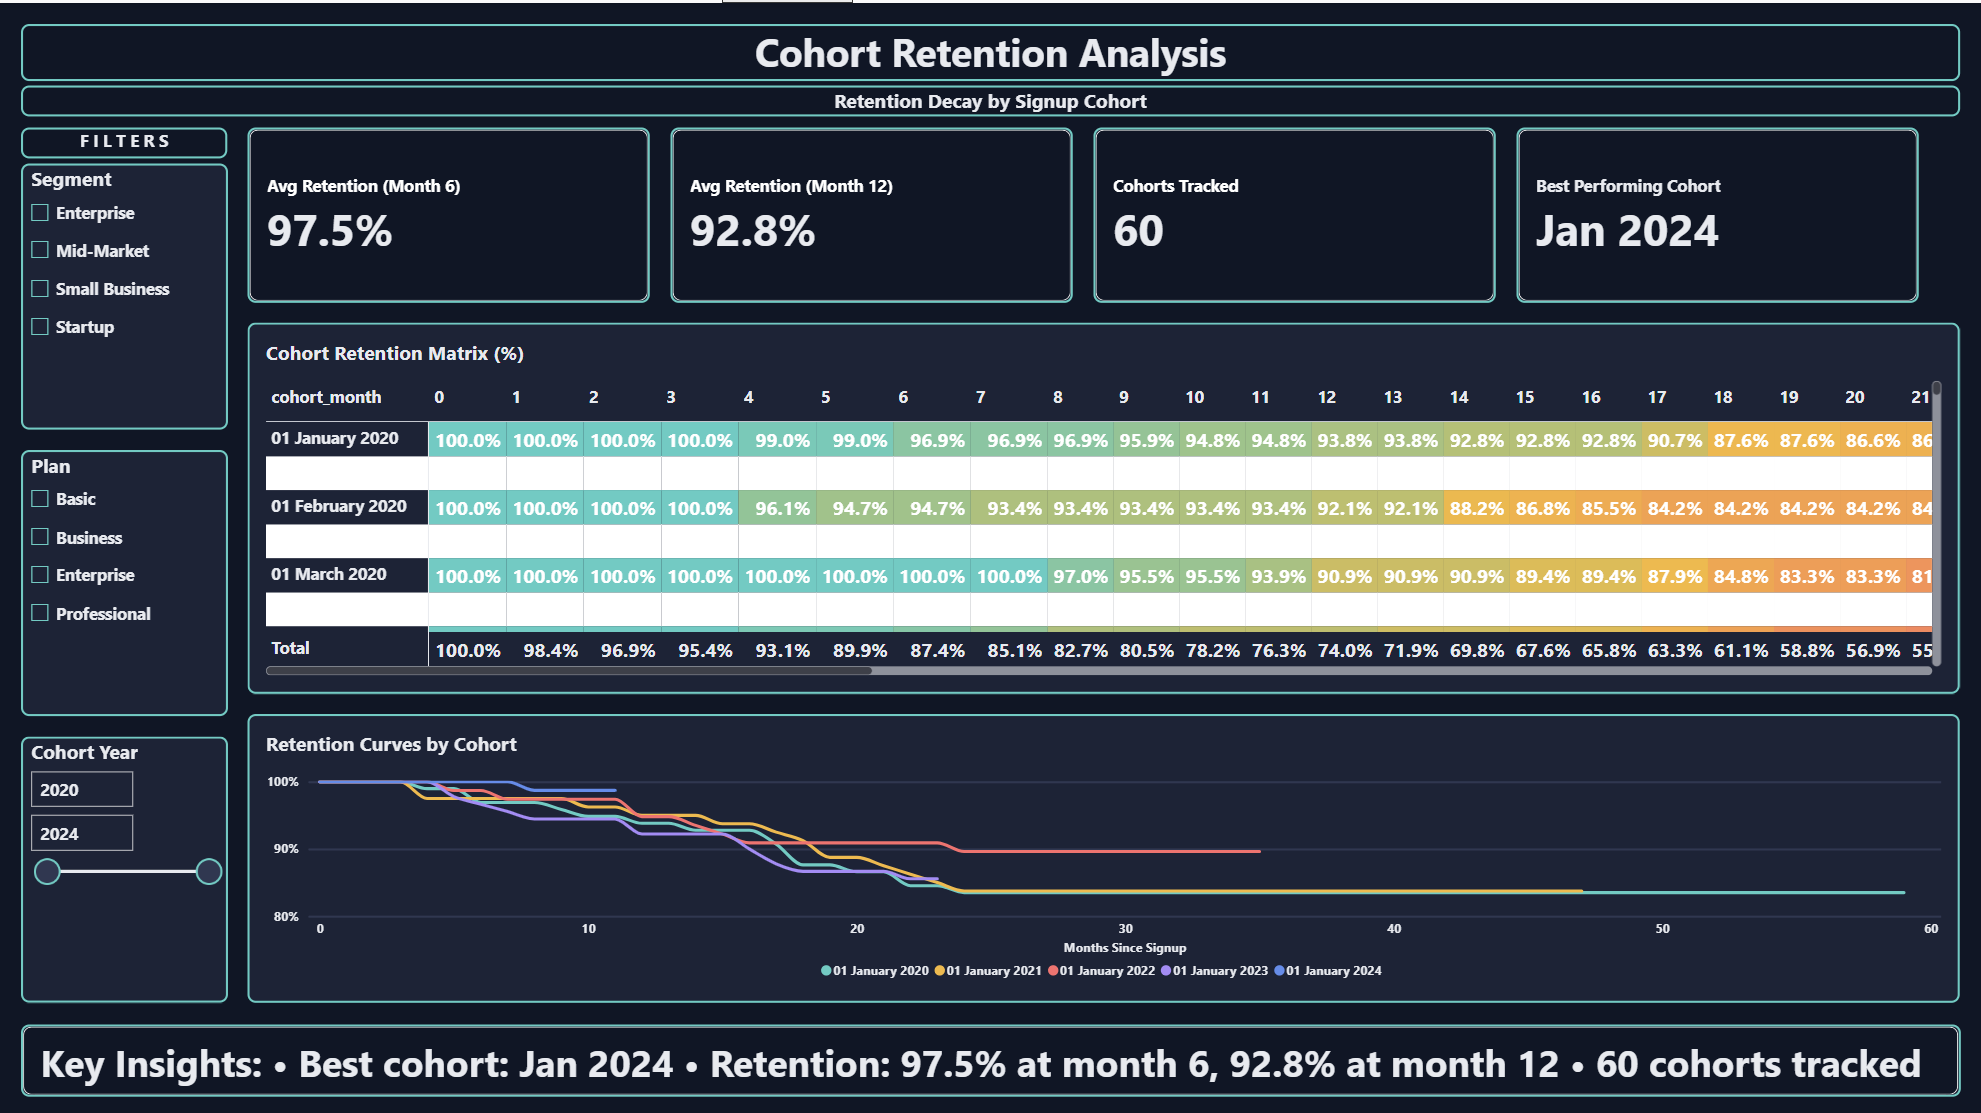

The dashboard page shown, as its layout file describes it:
{"tool":"powerbi","page":{"name":"Cohort &  Retention","canvas":[1920,1080],"ordinal":1},"visuals":[{"type":"pivotTable","title":"Cohort Retention Matrix (%)","fields":{"Columns":["financial_transactions.CohortIndex"],"Rows":["customers_for_powerbi.cohort_month"],"Values":["financial_transactions.CohortRetentionPct"]},"box":[240,310,1660,360],"z":0},{"type":"textbox","box":[20,20,1880,55],"z":1000},{"type":"slicer","fields":{"Values":["customers_for_powerbi.segment"]},"box":[20.6,155,200.4,258],"z":2000},{"type":"cardVisual","fields":{"Data":["financial_transactions.AvgRetentionMonth6"]},"box":[240,120,390,170],"z":3000},{"type":"cardVisual","fields":{"Data":["financial_transactions.AvgRetentionMonth12"]},"box":[650,120,390,170],"z":4000},{"type":"lineChart","title":"Retention Curves by Cohort","fields":{"Category":["financial_transactions.CohortIndex"],"Y":["financial_transactions.CohortRetentionPct"],"Series":["customers_for_powerbi.cohort_month"]},"box":[240,690,1660,280],"z":5000},{"type":"cardVisual","fields":{"Data":["customers_for_powerbi.CohortsTracked"]},"box":[1060,120.7,390,170],"z":6000},{"type":"textbox","box":[20,80,1880,30],"z":7000},{"type":"textbox","box":[20,120,200,30],"z":8000},{"type":"slicer","fields":{"Values":["customers_for_powerbi.plan"]},"box":[20.6,433,200.4,258],"z":9000},{"type":"slicer","fields":{"Values":["customers_for_powerbi.cohort_year"]},"box":[20.6,711,200.4,258],"z":10000},{"type":"cardVisual","fields":{"Data":["customers_for_powerbi.BestCohortText"]},"box":[1470,120,390,170],"z":11000},{"type":"cardVisual","fields":{"Data":["customers_for_powerbi.KeyInsightsCohortText"]},"box":[20.6,990,1880.6,70],"z":12000}]}

Visuals, with their boxes in screenshot pixels (x1, y1, x2, y2), scaled from the page's 1920x1080 canvas onto the 1981x1113 screenshot:
"Cohort Retention Matrix (%)" pivotTable: select_region(248, 319, 1960, 690)
textbox: select_region(21, 21, 1960, 77)
slicer - customers_for_powerbi.segment: select_region(21, 160, 228, 426)
cardVisual - financial_transactions.AvgRetentionMonth6: select_region(248, 124, 650, 299)
cardVisual - financial_transactions.AvgRetentionMonth12: select_region(671, 124, 1073, 299)
"Retention Curves by Cohort" lineChart: select_region(248, 711, 1960, 1000)
cardVisual - customers_for_powerbi.CohortsTracked: select_region(1094, 124, 1496, 300)
textbox: select_region(21, 82, 1960, 113)
textbox: select_region(21, 124, 227, 155)
slicer - customers_for_powerbi.plan: select_region(21, 446, 228, 712)
slicer - customers_for_powerbi.cohort_year: select_region(21, 733, 228, 999)
cardVisual - customers_for_powerbi.BestCohortText: select_region(1517, 124, 1919, 299)
cardVisual - customers_for_powerbi.KeyInsightsCohortText: select_region(21, 1020, 1962, 1092)
